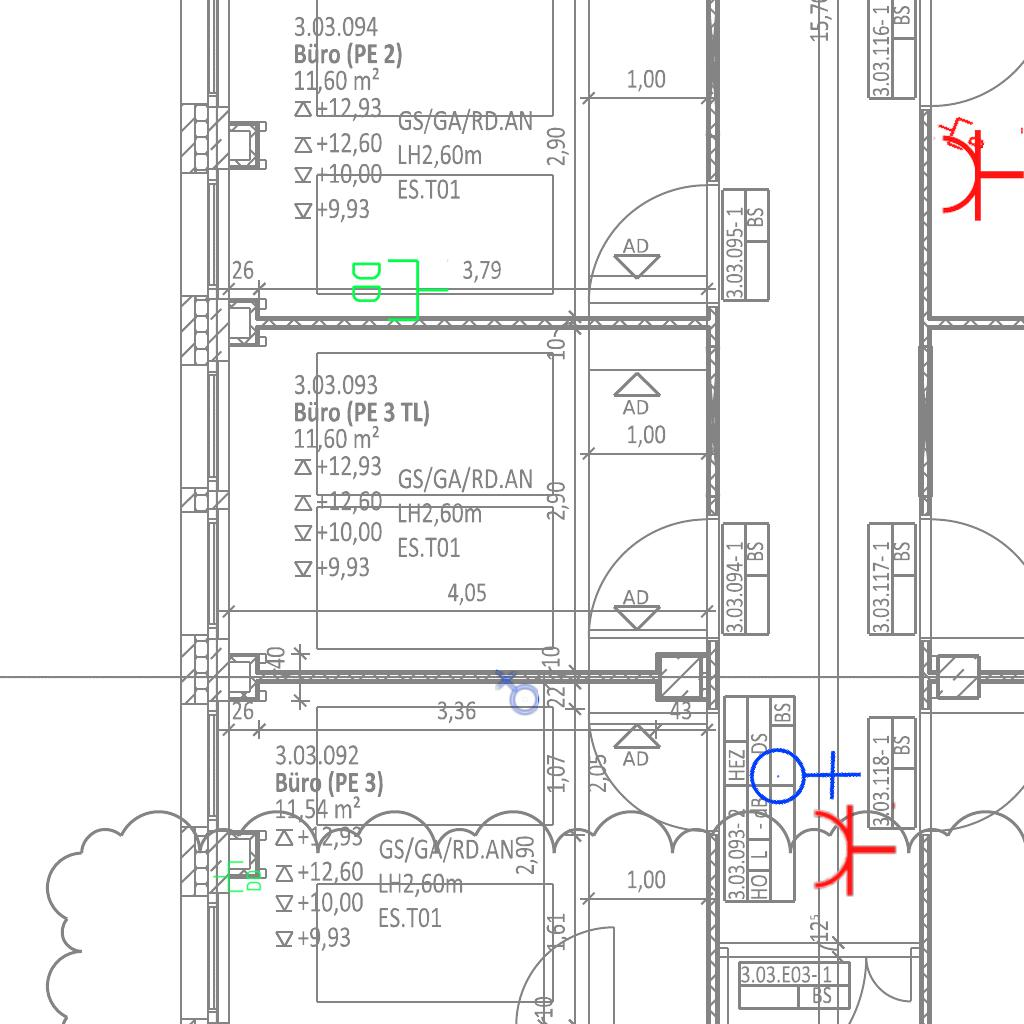Datenanschluss_einfach: (931, 109, 991, 159)
Datenanschluss_zweifach: (348, 255, 451, 324), (212, 860, 263, 894)
Elektroanschluss_allgemein_230V_Geraeteanschlussdose_230V: (730, 703, 867, 841), (493, 669, 540, 718)
Schukosteckdose_einfach: (811, 798, 898, 898), (939, 123, 1024, 223)
